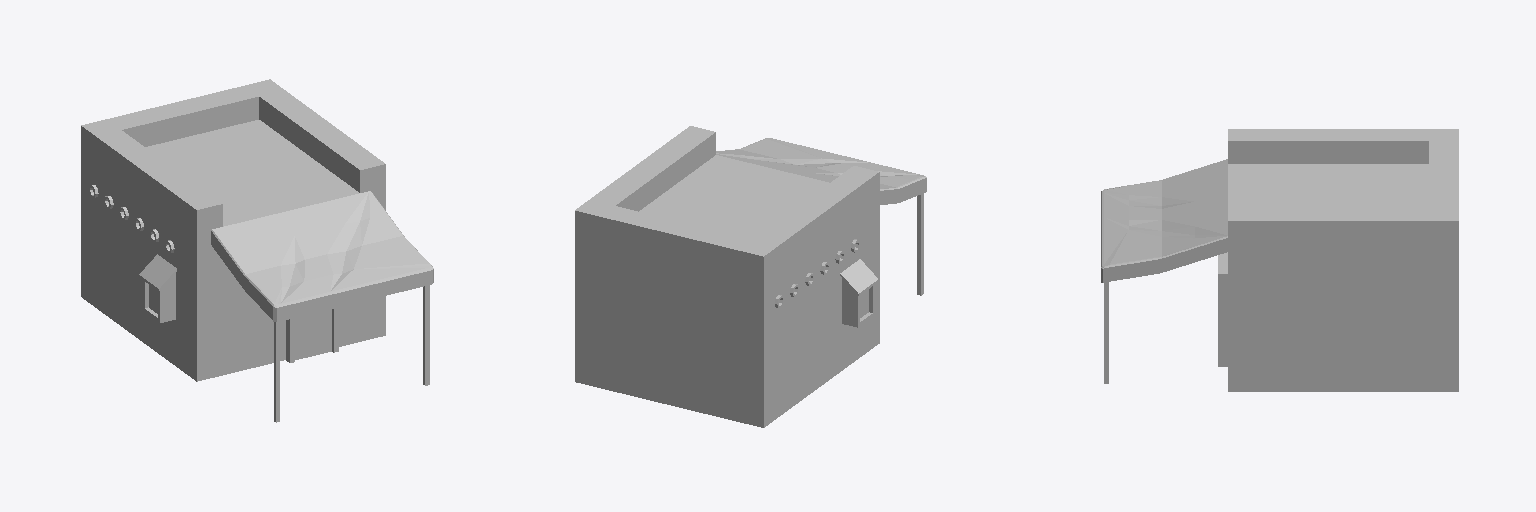
File: building.obj
3 views of the same model, side by side, from view 1: azimuth 30°, elevation 25°; view 2: azimuth 150°, elevation 25°; view 3: azimuth 270°, elevation 25° (orthographic).
Parts seen in each view (by area): view 1: Stylised_low_poly_building; view 2: Stylised_low_poly_building; view 3: Stylised_low_poly_building.
Part boxes in pixels (left/top/right/bottom): Stylised_low_poly_building: left=81, top=79, right=433, bottom=422; Stylised_low_poly_building: left=575, top=126, right=926, bottom=427; Stylised_low_poly_building: left=1101, top=129, right=1458, bottom=391.
Bounding box in the file's own units: 5.12 × 4.04 × 7.65.